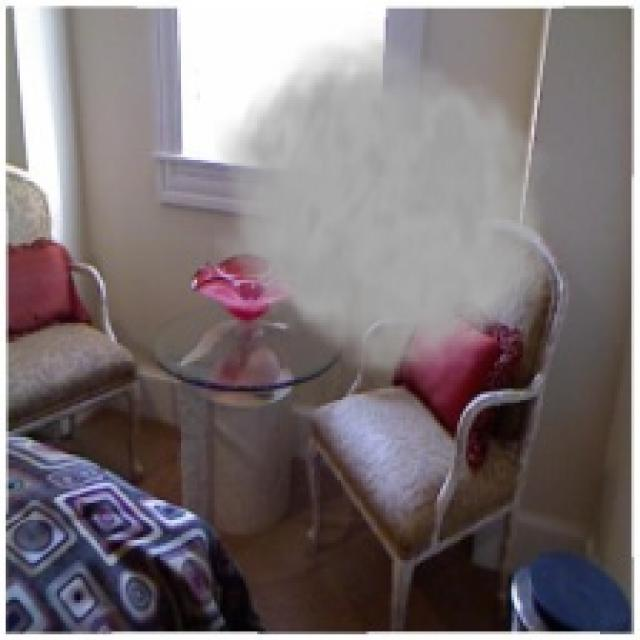smoke: (214, 20, 566, 389)
